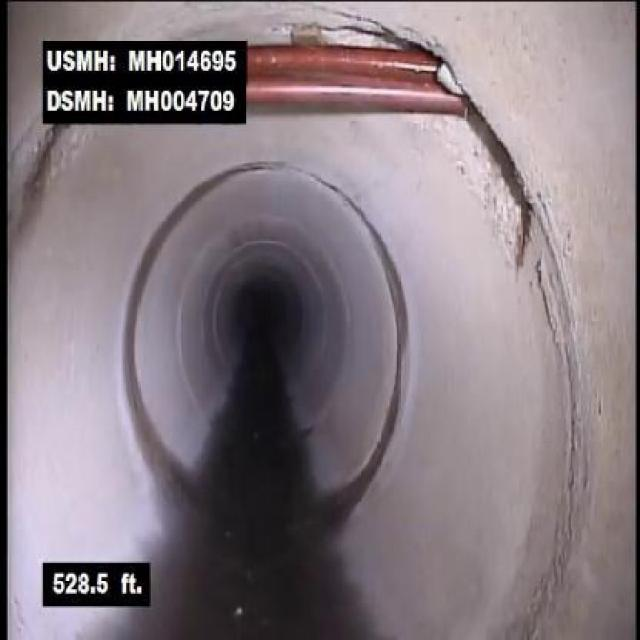Utility intrusion: (249, 37, 474, 125)
